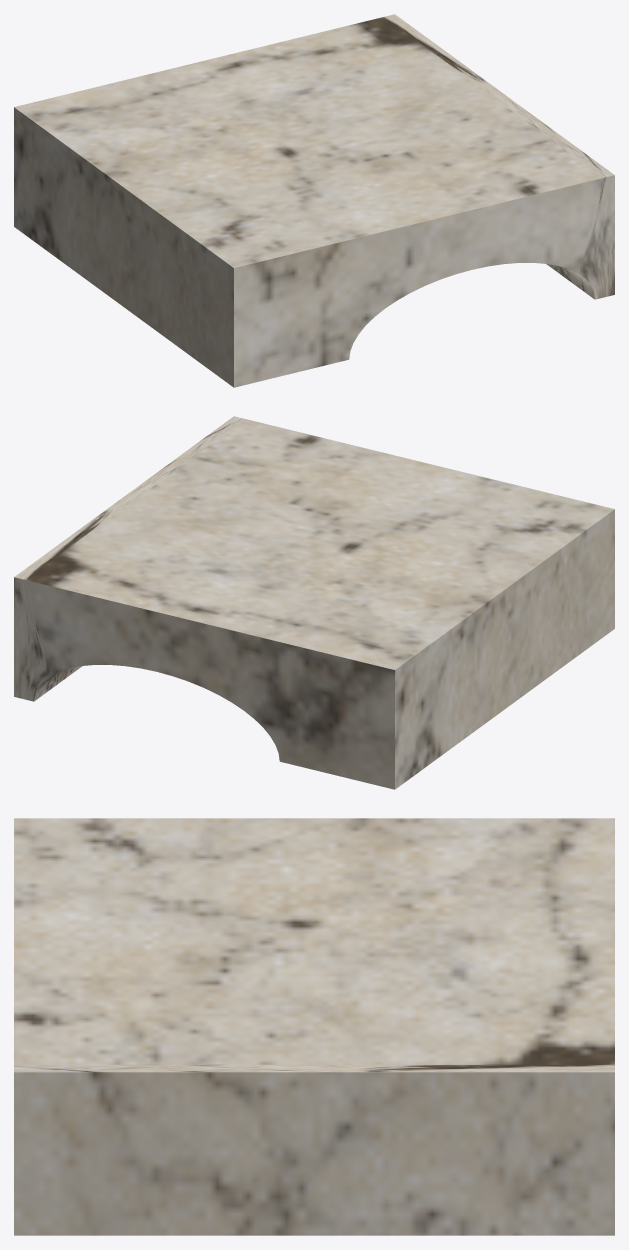
File: Ceiling_B.fbx
3 views of the same model, one above another, from view 1: azimuth 30°, elevation 25°; view 2: azimuth 150°, elevation 25°; view 3: azimuth 270°, elevation 25° (orthographic). The views are drawn at different scales.
Visible parts, largest first — view 1: Ceiling_B; view 2: Ceiling_B; view 3: Ceiling_B.
Part boxes in pixels (box(x1,y1,x2,y2)): Ceiling_B: box(14, 14, 614, 387); Ceiling_B: box(14, 416, 614, 789); Ceiling_B: box(14, 818, 614, 1235).
Size of the model in its own units: 2 by 2 by 0.6.
Materials: 1 (1 with a texture image).
